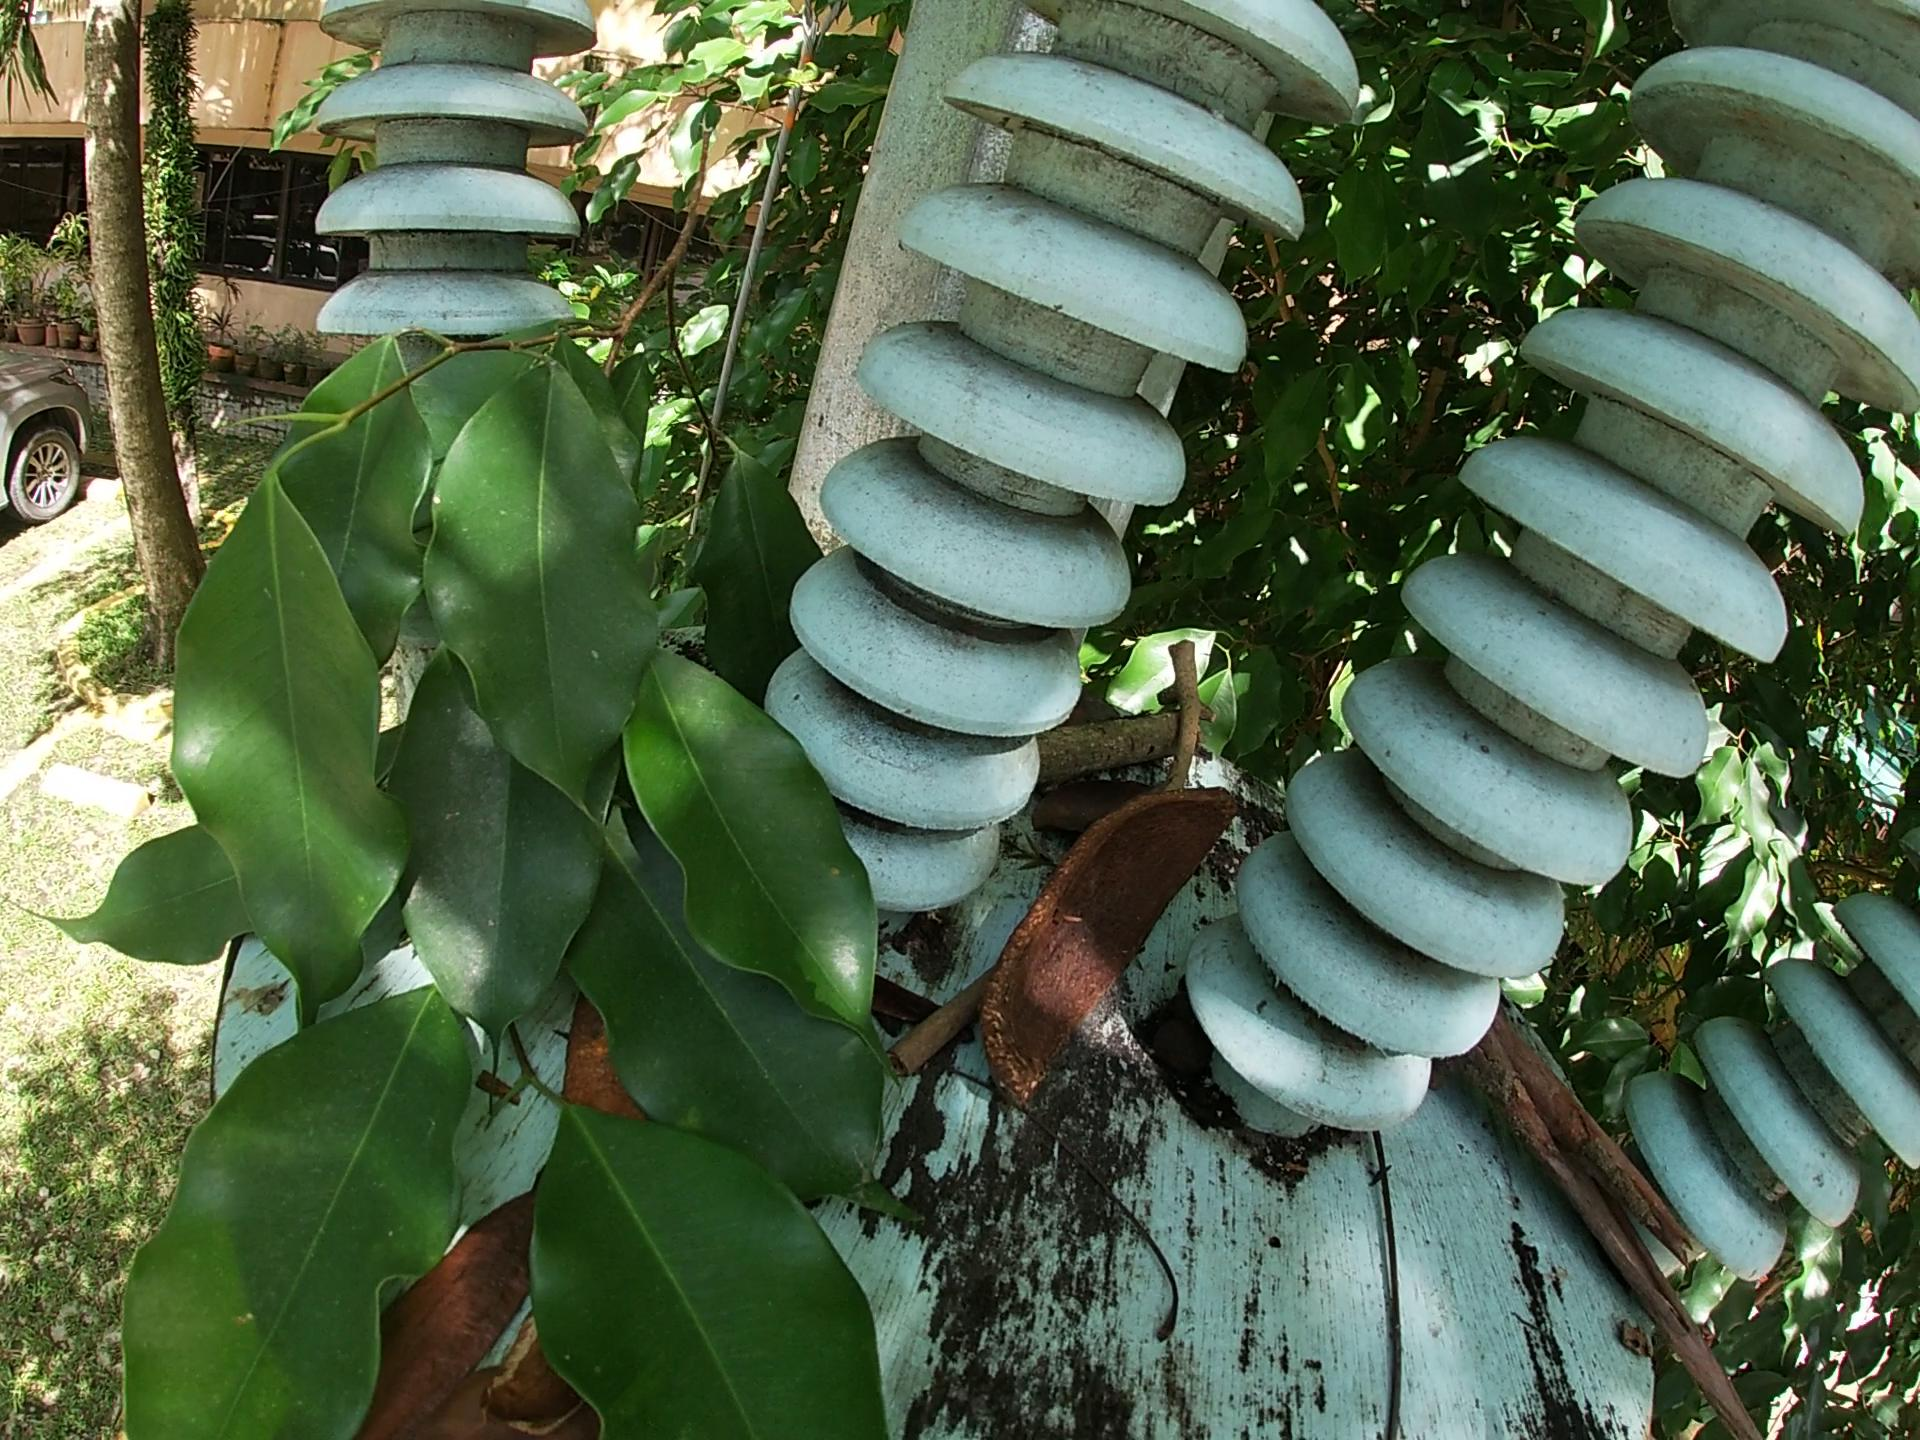branch with leaves: (2, 132, 931, 1429)
leaf: (461, 1319, 581, 1440), (558, 979, 633, 1134)
mahogany fruit: (983, 790, 1237, 1106), (345, 1171, 538, 1425)
tree branch: (1460, 989, 1795, 1432), (1008, 1113, 1197, 1349), (1013, 706, 1190, 802), (1358, 1119, 1407, 1434), (1147, 628, 1211, 793), (893, 973, 980, 1094)
